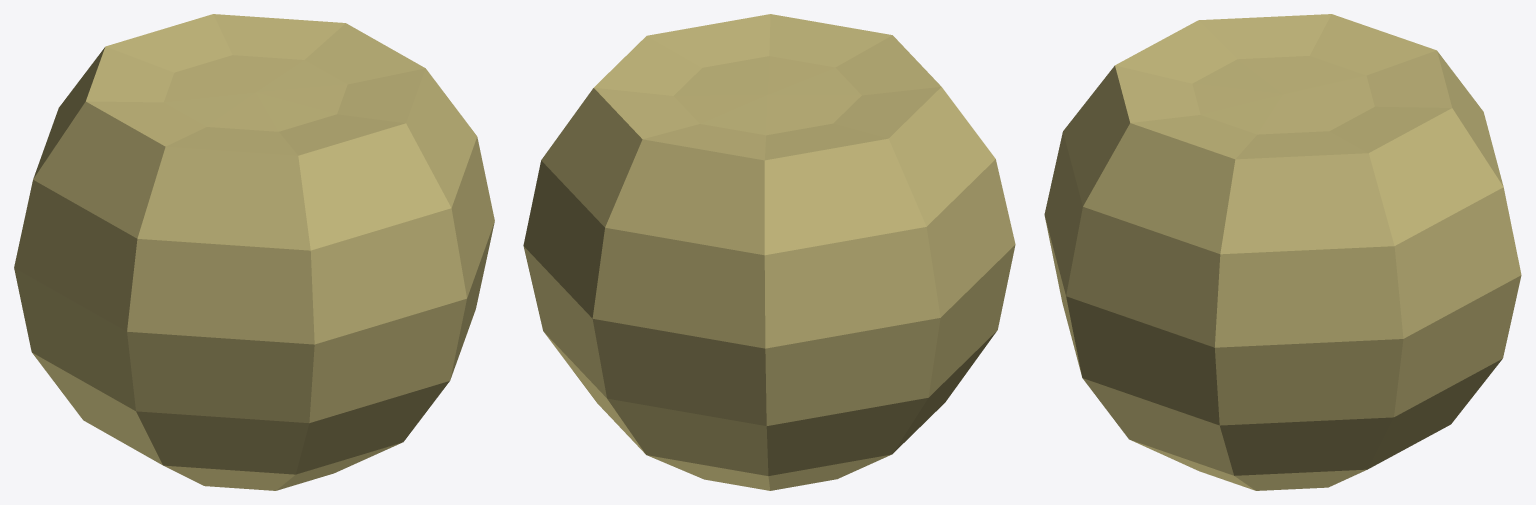
Rendered from teapot2.fbx.
3 views of the same model, side by side, from view 1: azimuth 30°, elevation 25°; view 2: azimuth 150°, elevation 25°; view 3: azimuth 270°, elevation 25° (orthographic).
Visible parts, largest first — view 1: pSphere6; view 2: pSphere6; view 3: pSphere6.
Part boxes in pixels (x1,y1,x2,y2): pSphere6: (14,14,494,490); pSphere6: (523,14,1015,490); pSphere6: (1044,14,1521,490).
Size of the model in its own units: 0.93 by 0.8292 by 0.9301.
